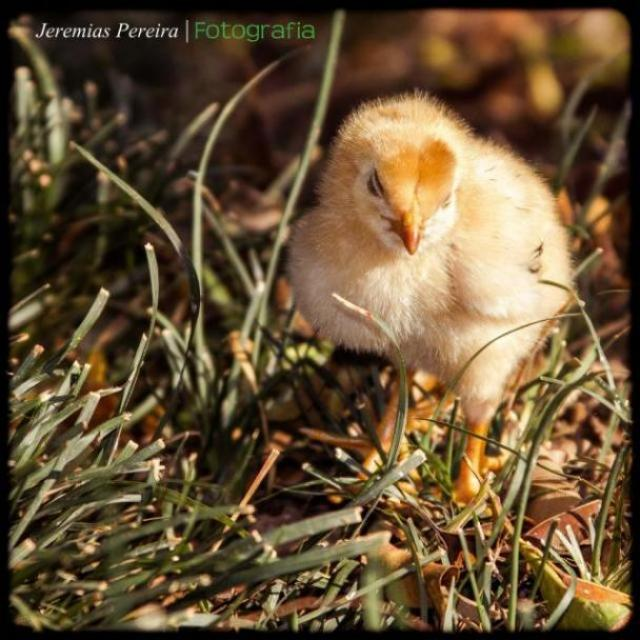Chicken: (302, 103, 559, 484)
